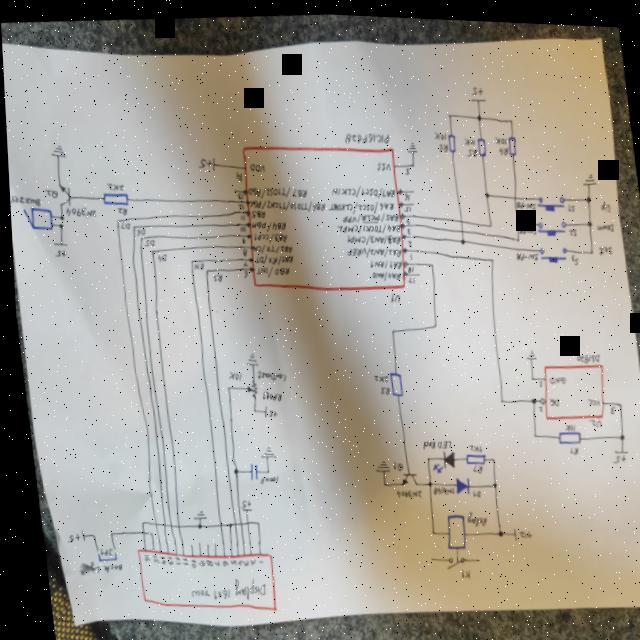capacitor: (242, 458, 253, 478)
crossover: (237, 516, 245, 524), (231, 517, 239, 525), (147, 519, 152, 525), (212, 519, 217, 525), (226, 518, 231, 524), (134, 528, 139, 534), (163, 520, 167, 527), (510, 190, 514, 196), (456, 213, 460, 219), (170, 521, 174, 527), (456, 224, 460, 229), (156, 520, 160, 525)
diode: (424, 443, 451, 470), (447, 470, 465, 490)
ground: (253, 441, 271, 456), (47, 142, 64, 157), (578, 166, 594, 180), (368, 455, 384, 469), (240, 348, 254, 364), (185, 506, 201, 518), (520, 343, 533, 356), (403, 136, 415, 149)
junction: (613, 426, 621, 436), (485, 476, 493, 484), (491, 524, 498, 533), (474, 109, 481, 117), (226, 464, 233, 472), (480, 186, 487, 194), (525, 391, 532, 399), (456, 233, 463, 240), (524, 369, 531, 376), (485, 451, 491, 459), (385, 323, 391, 330), (582, 190, 588, 197), (585, 242, 591, 249), (190, 520, 196, 527), (506, 112, 512, 118), (133, 518, 139, 524), (376, 477, 382, 483), (583, 214, 589, 220), (527, 427, 532, 434), (494, 392, 499, 399), (512, 214, 517, 221), (428, 318, 433, 324), (426, 257, 431, 263), (249, 517, 254, 523), (102, 529, 107, 535), (408, 157, 413, 163), (55, 222, 60, 228), (56, 214, 61, 220), (445, 107, 449, 114), (85, 531, 89, 537), (485, 217, 489, 223), (486, 252, 490, 258), (613, 395, 617, 401), (222, 519, 226, 525), (422, 476, 426, 482), (424, 525, 428, 530), (142, 529, 147, 533), (512, 232, 516, 237), (136, 234, 141, 238), (247, 406, 251, 410), (222, 383, 226, 387), (420, 452, 424, 456), (147, 247, 151, 251), (129, 223, 133, 227), (112, 217, 116, 221), (202, 266, 205, 270), (187, 257, 190, 261), (260, 466, 263, 470)
resistor: (99, 188, 126, 205), (551, 423, 577, 440), (384, 366, 399, 393), (459, 447, 481, 461), (240, 376, 254, 396), (504, 130, 515, 151), (474, 132, 484, 153), (445, 128, 454, 149)
switch: (532, 188, 563, 208), (533, 213, 565, 232), (535, 239, 565, 259), (89, 544, 111, 561)
terminal: (468, 91, 484, 98), (50, 240, 64, 246), (208, 154, 214, 168), (73, 528, 79, 540), (506, 522, 511, 536), (258, 401, 263, 415), (608, 443, 622, 448), (235, 505, 246, 510)
text: (182, 571, 260, 602), (244, 192, 323, 214), (326, 177, 395, 199), (323, 193, 392, 214), (243, 179, 305, 198), (341, 239, 399, 257), (332, 216, 397, 232), (343, 226, 398, 244), (338, 206, 396, 222), (340, 124, 388, 143), (71, 557, 117, 575), (250, 248, 291, 264), (248, 238, 290, 253), (251, 260, 287, 277), (249, 226, 284, 242), (61, 203, 95, 219), (247, 216, 284, 230), (251, 365, 282, 380), (365, 253, 399, 266), (8, 192, 37, 207), (459, 506, 482, 524), (416, 433, 447, 446), (367, 265, 398, 278), (389, 482, 417, 495), (571, 346, 596, 359), (256, 386, 278, 400), (511, 245, 536, 257), (592, 214, 612, 229), (426, 479, 448, 492), (512, 194, 534, 206), (252, 470, 273, 482), (594, 236, 611, 250), (543, 369, 562, 381), (373, 155, 389, 169), (223, 366, 238, 380), (515, 220, 534, 231), (368, 368, 385, 380), (246, 159, 264, 170), (511, 523, 527, 535), (194, 155, 210, 167), (103, 180, 122, 190), (40, 187, 56, 198), (605, 447, 621, 458), (246, 206, 263, 216), (385, 287, 398, 300), (468, 80, 482, 92), (462, 141, 476, 153), (582, 391, 596, 402), (492, 129, 506, 140), (59, 531, 74, 541), (92, 545, 107, 555), (582, 412, 597, 422), (543, 390, 555, 402), (208, 269, 220, 281), (373, 381, 386, 392), (431, 125, 444, 136), (597, 194, 608, 207), (232, 496, 246, 506), (50, 247, 64, 257), (462, 439, 477, 448), (564, 221, 576, 232), (466, 458, 477, 470), (453, 562, 464, 574), (113, 204, 125, 215), (231, 167, 241, 180), (153, 250, 164, 261), (386, 456, 397, 467), (435, 137, 446, 148), (495, 140, 506, 151), (563, 439, 574, 450), (567, 248, 576, 261), (139, 236, 152, 245), (461, 132, 474, 141), (558, 417, 571, 426), (190, 259, 201, 269), (132, 225, 143, 235), (563, 197, 573, 208), (116, 219, 128, 228), (262, 406, 273, 415), (466, 483, 475, 493), (403, 271, 412, 280), (603, 399, 612, 408), (159, 553, 167, 563), (152, 553, 160, 563), (145, 552, 153, 562), (403, 260, 411, 269), (190, 556, 198, 565), (183, 556, 190, 566), (238, 266, 245, 276), (167, 553, 174, 563), (174, 555, 182, 563), (400, 200, 408, 208), (242, 555, 250, 563), (136, 551, 143, 560), (401, 163, 408, 172), (401, 188, 408, 197), (238, 245, 245, 254), (234, 189, 241, 198), (402, 235, 409, 243), (236, 210, 243, 218), (236, 222, 243, 230), (223, 556, 230, 563), (234, 200, 241, 207), (199, 557, 206, 564), (238, 233, 243, 242), (236, 556, 242, 563), (215, 557, 221, 564), (206, 557, 213, 563), (405, 247, 410, 255), (403, 223, 408, 231), (402, 213, 407, 221), (533, 374, 538, 382), (239, 258, 245, 264), (230, 556, 236, 562), (532, 400, 538, 406), (251, 556, 257, 561)
transistor: (53, 182, 69, 206), (392, 466, 412, 483)
